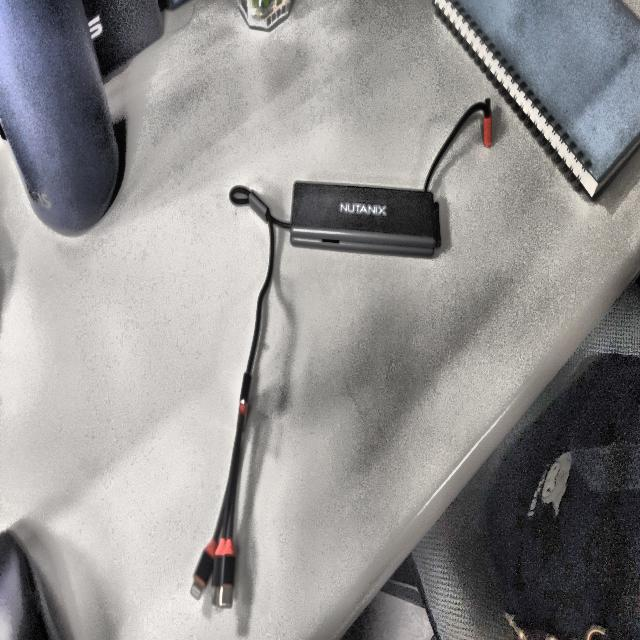HUB: (192, 99, 492, 606)
